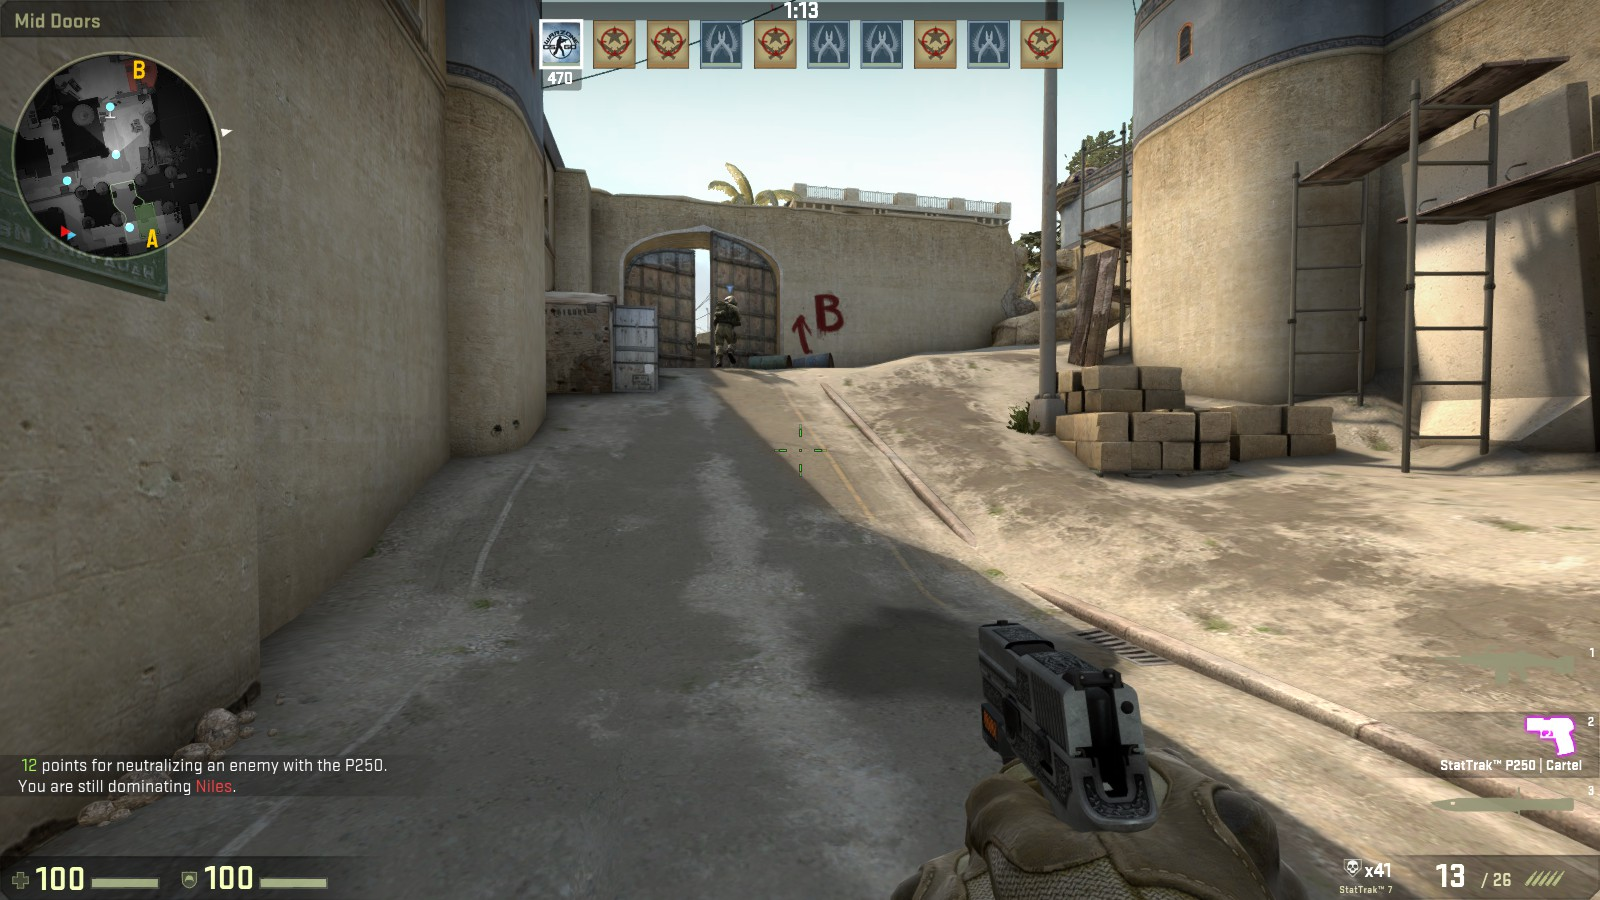c: (712, 295, 738, 366)
ch: (724, 295, 737, 305)
